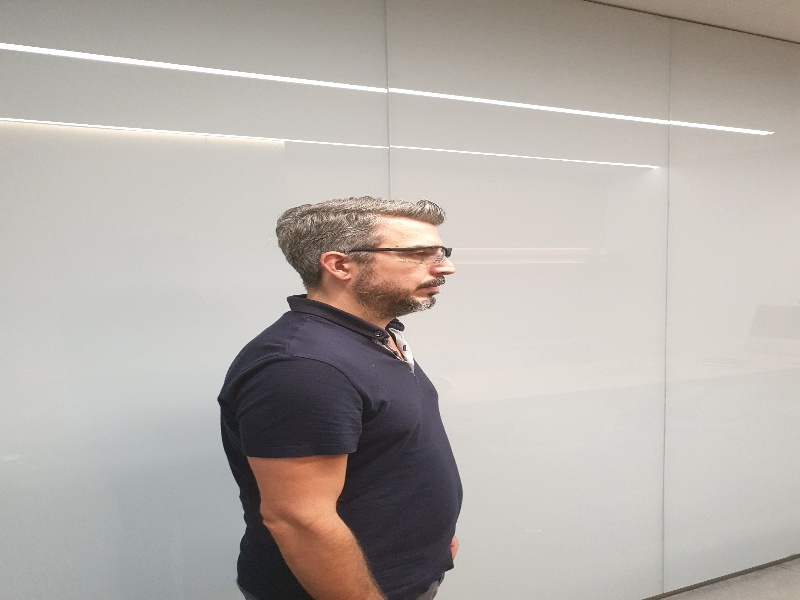Gozluk: (356, 245, 453, 262)
